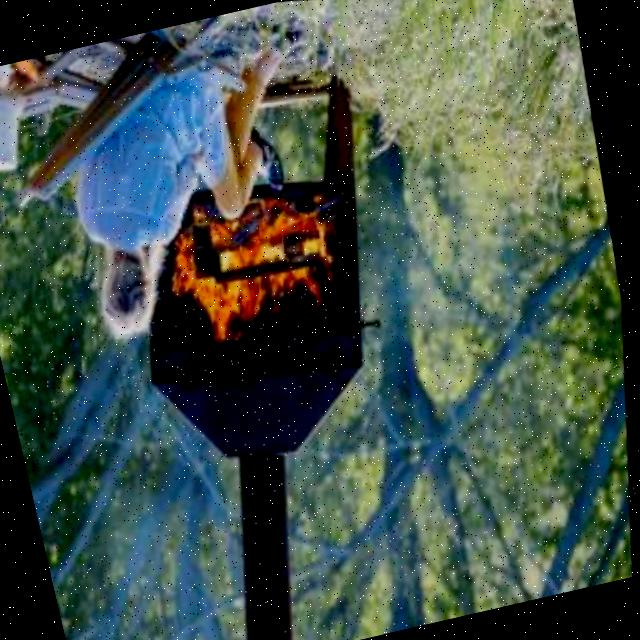fire: (133, 150, 373, 378)
